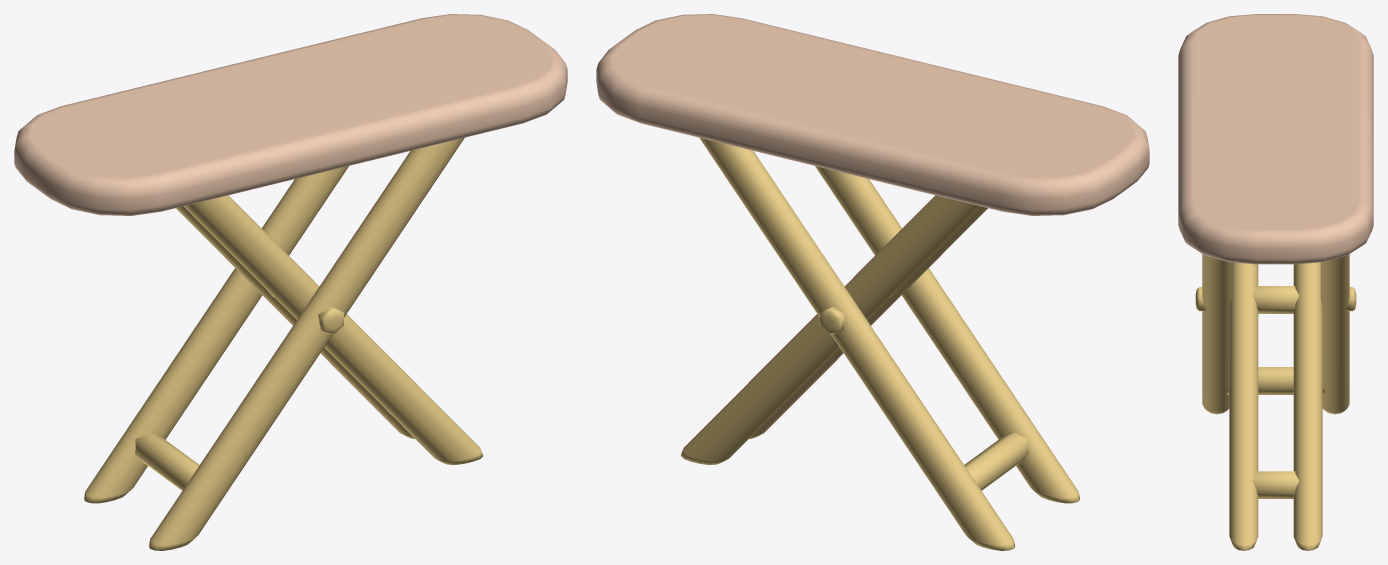
3 renders of one model, left to right at view 1: azimuth 30°, elevation 25°; view 2: azimuth 150°, elevation 25°; view 3: azimuth 270°, elevation 25°, orthographic. The views are drawn at different scales.
Parts seen in each view (by area): view 1: IroningBoard_01; view 2: IroningBoard_01; view 3: IroningBoard_01.
Part boxes in pixels (bbox=[...]): IroningBoard_01: bbox=[14, 14, 567, 550]; IroningBoard_01: bbox=[596, 14, 1149, 550]; IroningBoard_01: bbox=[1178, 14, 1373, 550].
Size of the model in its own units: 1.31 by 0.9503 by 0.4751.
